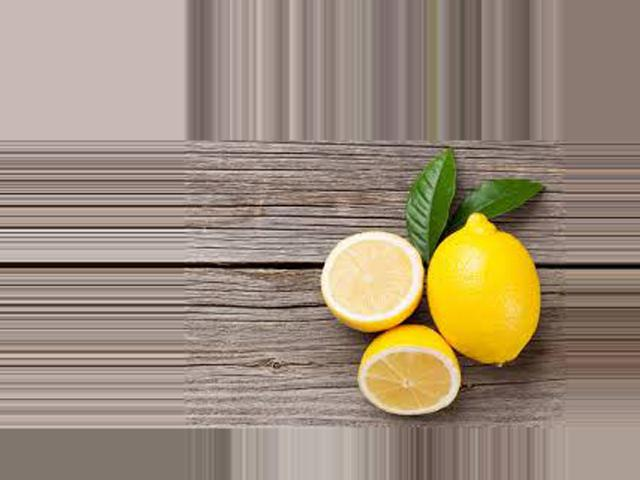lemon: (417, 200, 531, 362)
